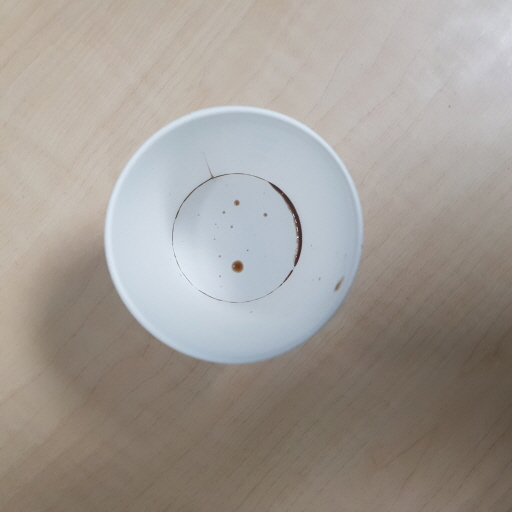Paper_1: (95, 104, 366, 368)
